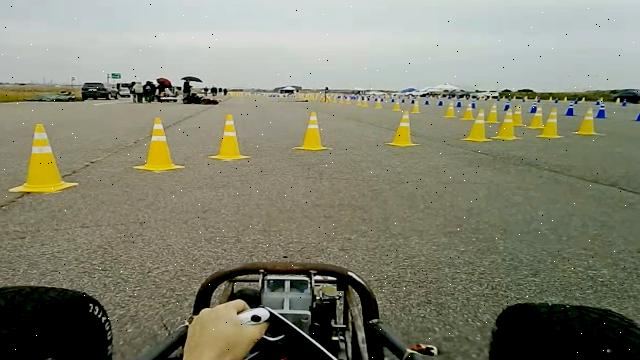yellow cone: (9, 123, 79, 193), (132, 116, 186, 172), (208, 113, 251, 161), (292, 110, 332, 150), (385, 110, 420, 146), (459, 106, 492, 142), (493, 106, 522, 140), (572, 106, 600, 136), (536, 108, 564, 138)
